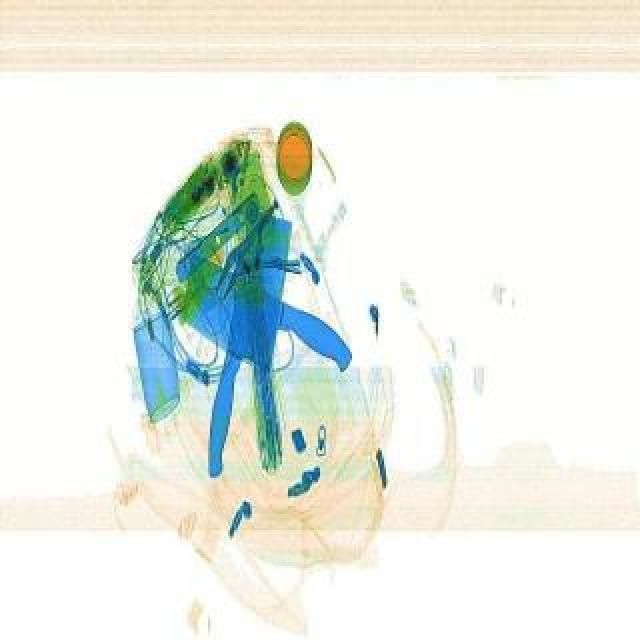knife: (156, 252, 364, 404), (206, 216, 290, 484)
